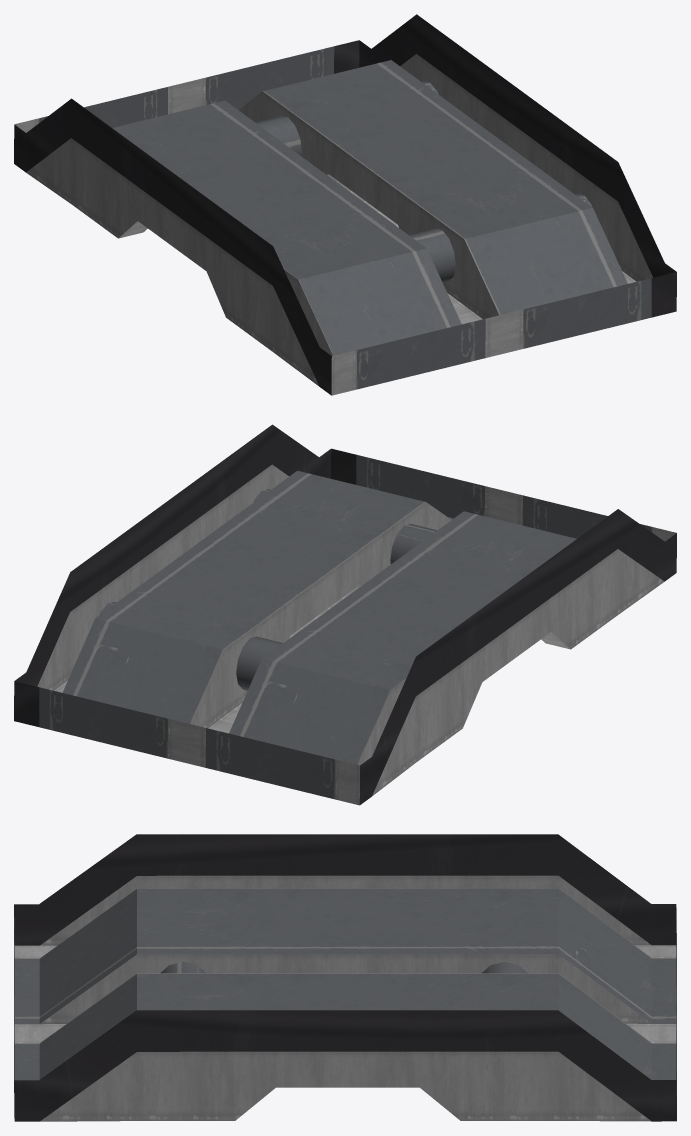
File: roof_s.FBX
3 views of the same model, one above another, from view 1: azimuth 30°, elevation 25°; view 2: azimuth 150°, elevation 25°; view 3: azimuth 270°, elevation 25° (orthographic). The views are drawn at different scales.
Parts seen in each view (by area): view 1: Object023; view 2: Object023; view 3: Object023.
Part boxes in pixels (x1=…): Object023: x1=14, y1=14, x2=676, y2=395; Object023: x1=14, y1=424, x2=676, y2=805; Object023: x1=14, y1=834, x2=676, y2=1121.
Size of the model in its own units: 301 by 88.75 by 478.
Materials: 1 (1 with a texture image).
